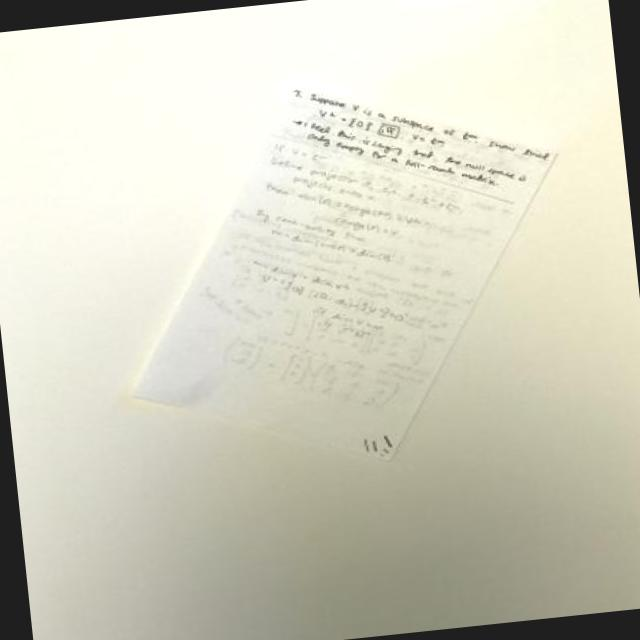paper: (138, 86, 553, 457)
